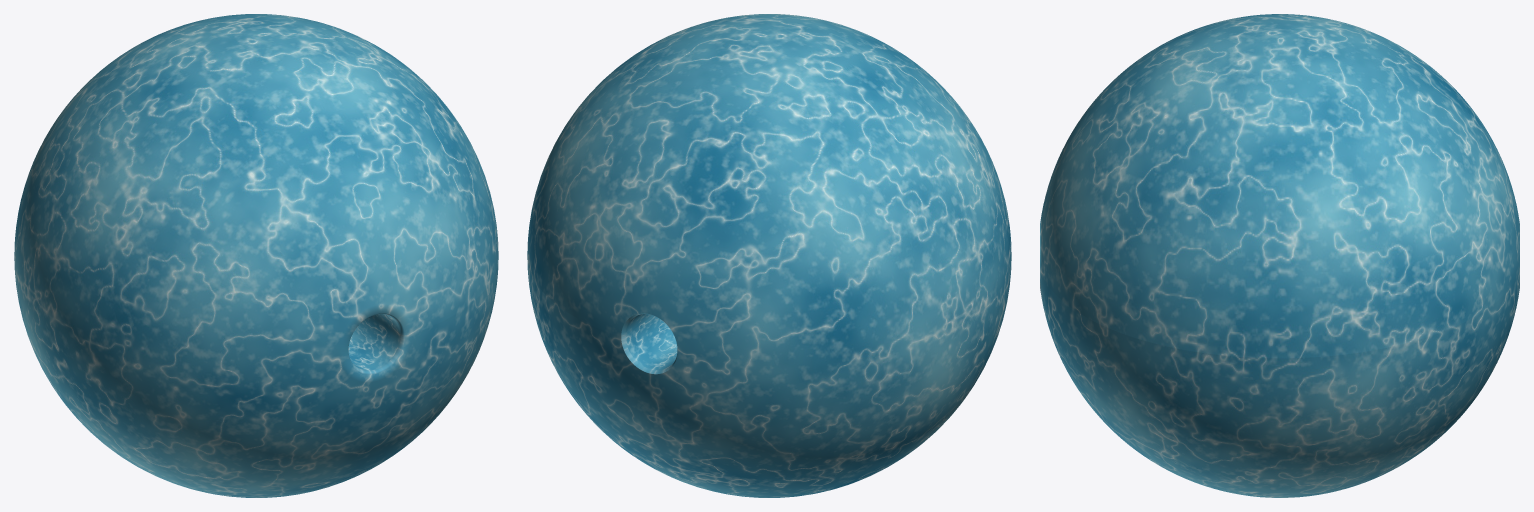
File: larimar.glb
3 renders of one model, left to right at view 1: azimuth 30°, elevation 25°; view 2: azimuth 150°, elevation 25°; view 3: azimuth 270°, elevation 25°, orthographic.
Visible parts, largest first — view 1: larimar.001; view 2: larimar.001; view 3: larimar.001.
Boxes of the visible parts, x1,y1,x2,y2 form: larimar.001: (14, 14, 498, 497); larimar.001: (527, 14, 1011, 497); larimar.001: (1040, 14, 1519, 497).
Bounding box in the file's own units: 0.008 × 0.008 × 0.00793.
1 material, 1 textured.
